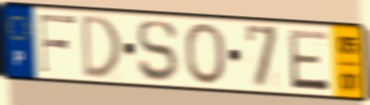7: (242, 23, 281, 91)
D: (80, 12, 123, 81)
E: (286, 28, 332, 94)
F: (37, 12, 78, 75)
O: (182, 21, 228, 87)
S: (135, 19, 180, 84)
